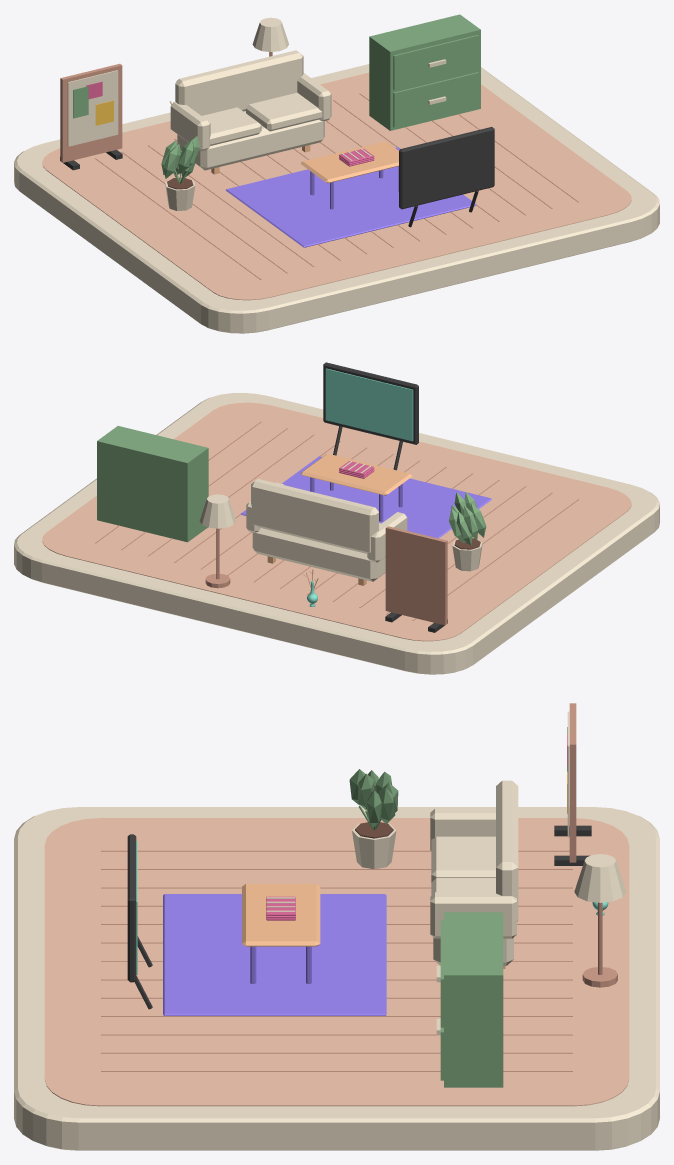
3 views of the same model, one above another, from view 1: azimuth 30°, elevation 25°; view 2: azimuth 150°, elevation 25°; view 3: azimuth 270°, elevation 25° (orthographic). The views are drawn at different scales.
Visible parts, largest first — view 1: COM-02 Floor Surface, COM-01 Rounded Base Direct, Cabinet, Rug, TV frame, Back, Base, Canvas, Panel, Rounded table top, Pot, Seat cushion.001 (+4 smaller); view 2: COM-02 Floor Surface, COM-01 Rounded Base Direct, Cabinet, Back, Panel, Screen, Rug, Base, Rounded table top, Pot, TV frame, Lamp shade (+1 smaller); view 3: COM-02 Floor Surface, COM-01 Rounded Base Direct, Rug, Cabinet, Rounded table top, Pot, Seat cushion, Back, Arm.001, Lamp shade, Arm, TV frame (+5 smaller).
Part boxes in pixels (x1,y1,x2,y2): COM-02 Floor Surface: [42, 72, 631, 300]; COM-01 Rounded Base Direct: [14, 64, 659, 333]; Cabinet: [369, 14, 480, 130]; Rug: [225, 147, 476, 247]; TV frame: [399, 127, 494, 209]; Back: [175, 50, 303, 115]; Base: [177, 111, 324, 170]; Canvas: [67, 70, 118, 146]; Panel: [60, 63, 122, 162]; Rounded table top: [301, 141, 398, 183]; Pot: [161, 136, 199, 210]; Seat cushion.001: [246, 92, 322, 131]; COM-02 Floor Surface: [42, 402, 631, 641]; COM-01 Rounded Base Direct: [14, 393, 659, 674]; Cabinet: [97, 426, 208, 542]; Back: [251, 479, 378, 553]; Panel: [385, 526, 447, 625]; Screen: [325, 368, 413, 441]; Rug: [241, 456, 491, 538]; Base: [252, 528, 385, 581]; Rounded table top: [301, 453, 412, 495]; Pot: [448, 492, 486, 571]; TV frame: [323, 362, 418, 444]; Lamp shade: [199, 494, 235, 528]; COM-02 Floor Surface: [44, 818, 629, 1106]; COM-01 Rounded Base Direct: [14, 807, 659, 1150]; Rug: [163, 894, 386, 1015]; Cabinet: [436, 912, 503, 1087]; Rounded table top: [242, 884, 320, 946]; Pot: [349, 769, 398, 868]; Seat cushion: [431, 836, 495, 882]; Back: [496, 780, 518, 921]; Arm.001: [430, 892, 516, 938]; Lamp shade: [574, 854, 626, 902]; Arm: [430, 808, 495, 850]; TV frame: [127, 834, 136, 982].
Size of the model in its own units: 6 by 1.41 by 5.2.
Materials: 1 (1 with a texture image).
